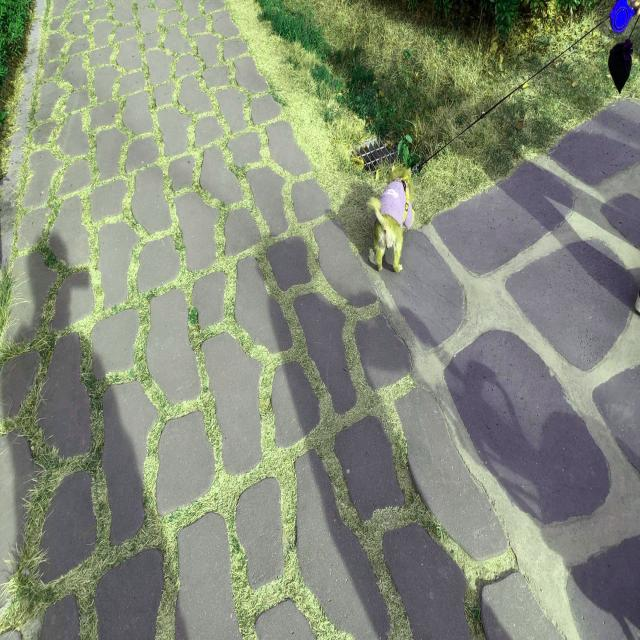Dog: (369, 161, 417, 276)
